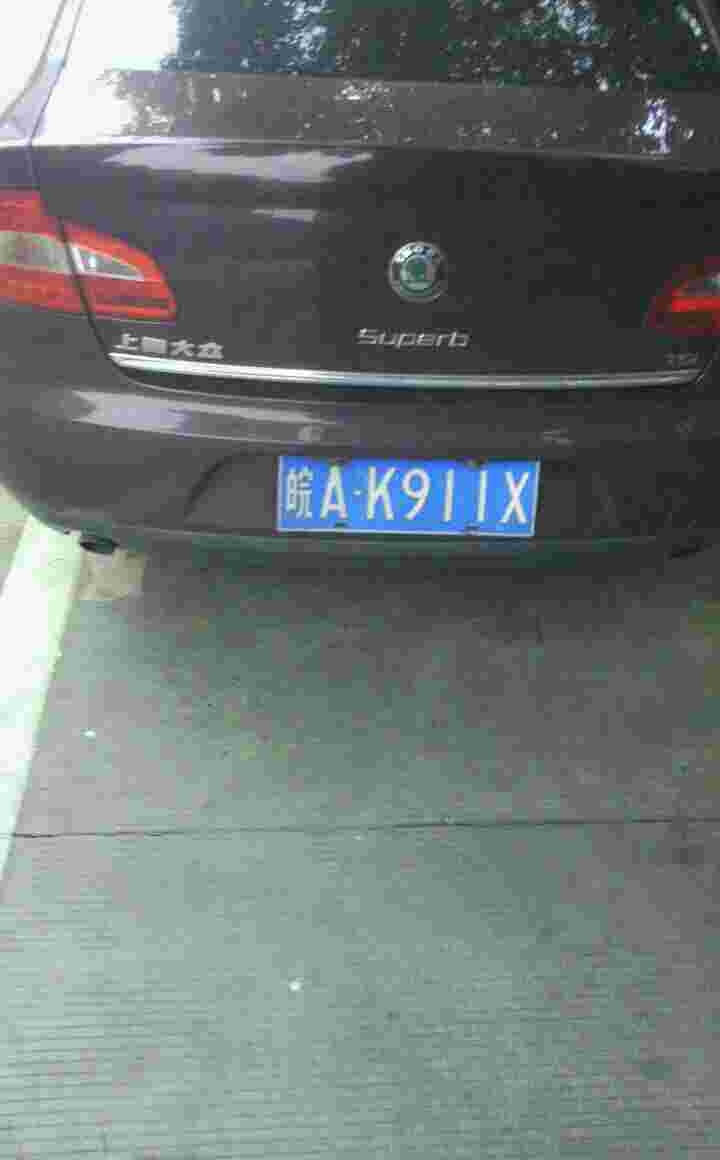plate: (279, 447, 545, 541)
